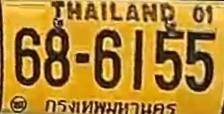1: (133, 29, 142, 89)
5: (184, 29, 216, 92), (154, 26, 184, 90)
6: (94, 28, 120, 88), (14, 27, 40, 85)
8: (44, 25, 68, 86)
BKK: (44, 94, 181, 114)
